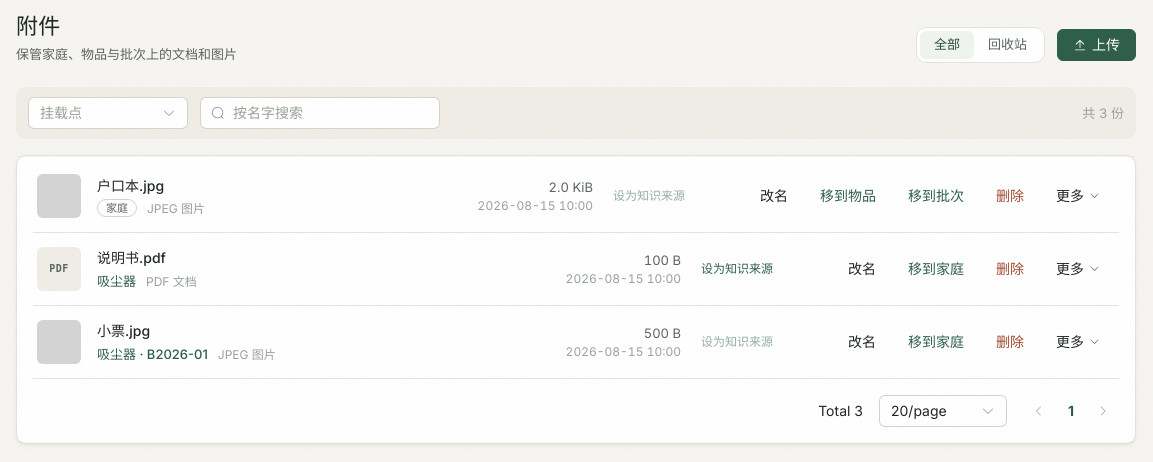
Test case: AttachmentsPage › switches to recycle bin view and lists recycled attachments
Click the tab with test id "attachment-view-recycled": {"x": 1008, "y": 45} [974, 31, 1041, 59]
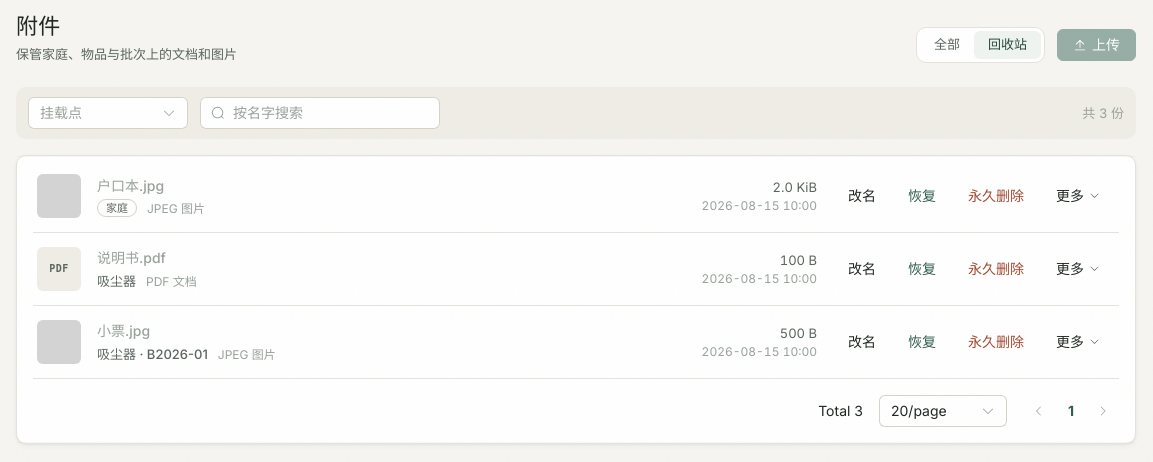
Check: the button with test id "attachment-restore" in the row of "2.0 KiB" is shown, box [893, 180, 951, 212]
